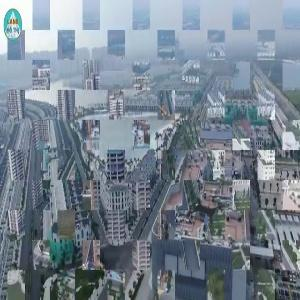drone: (166, 175, 243, 252)
